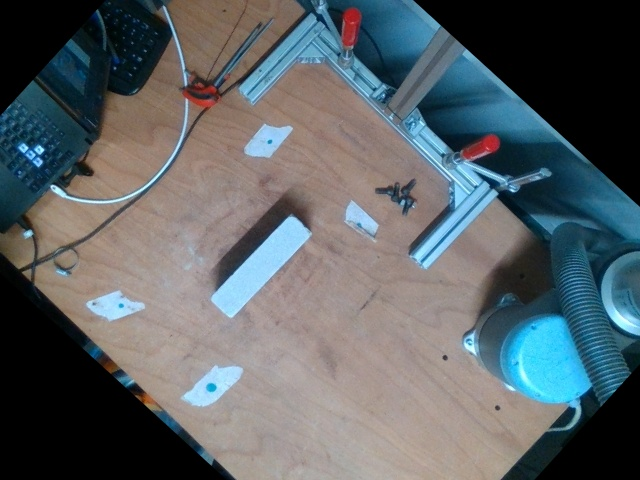brick-side: (209, 215, 310, 318)
